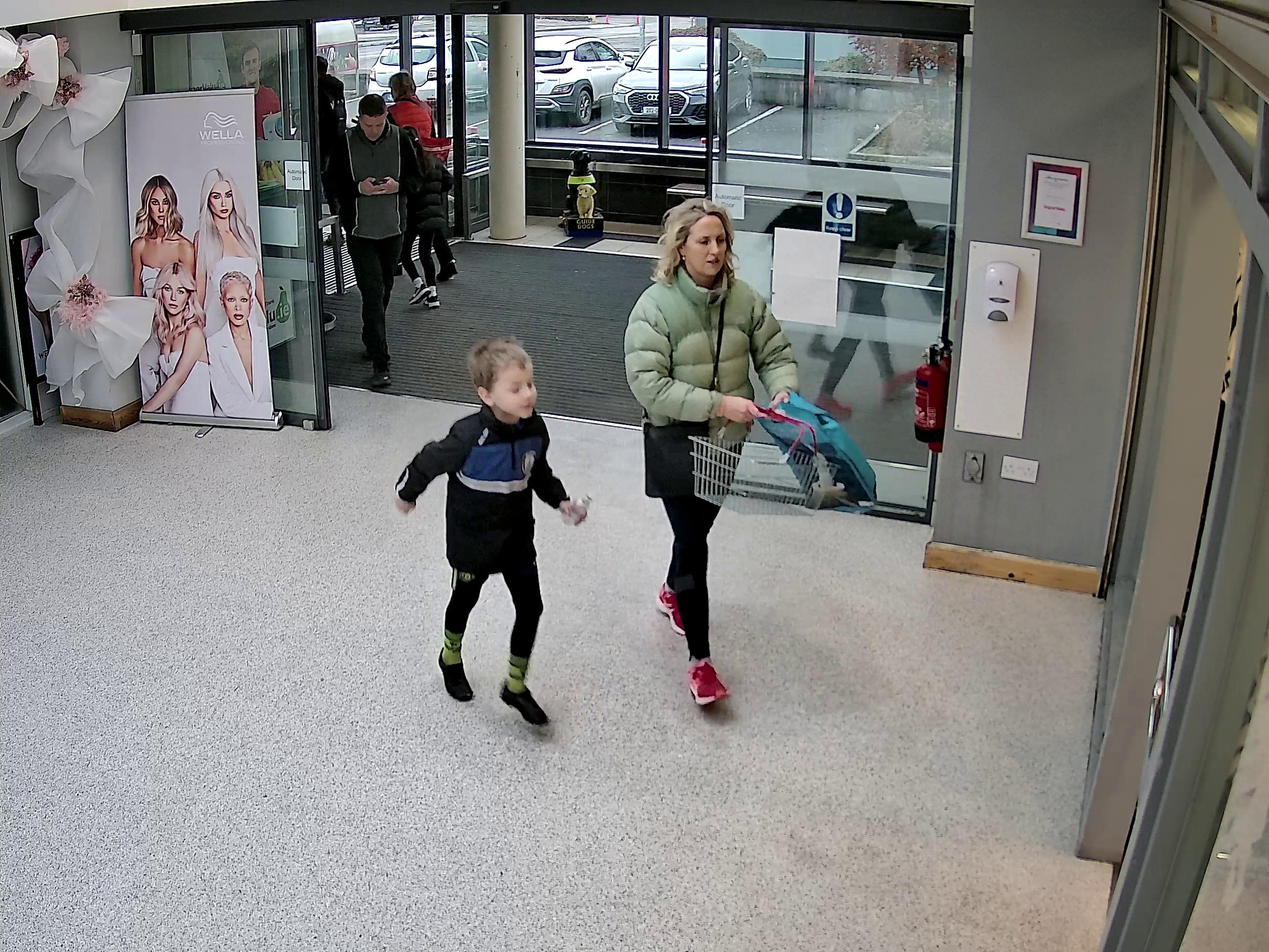backpack-or-handbag: (639, 419, 719, 499)
empty-basket: (690, 406, 842, 517)
empty-shopping-bags: (752, 391, 877, 513)
person: (628, 202, 799, 706)
person-with-basket-trolly-shopping-bag-s-and-backpack-handbag: (628, 196, 877, 703)
